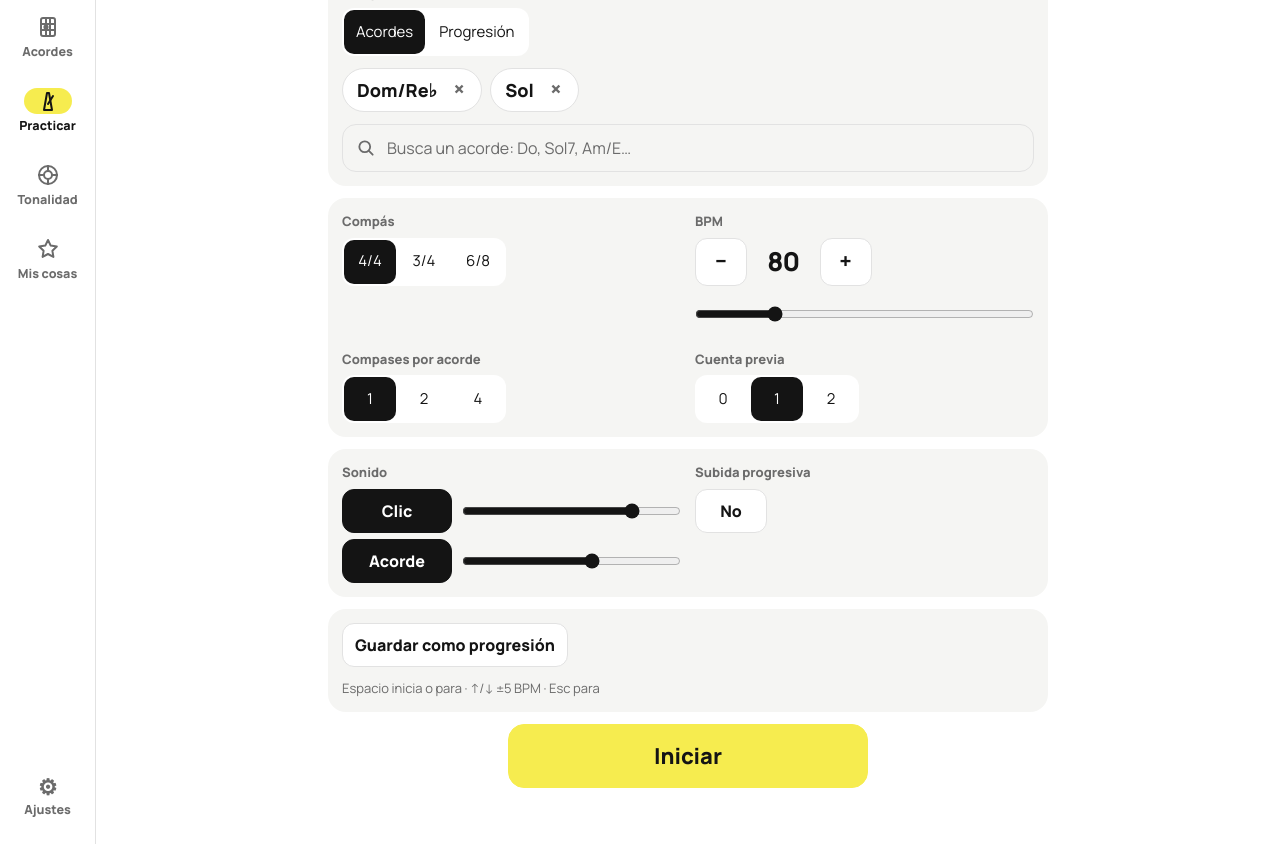
pantalla Practicar › en marcha, el acorde sin posición muestra el aviso y no rompe
(page scrolled)
What coordinates should you click on to do the following:
click the button "Iniciar"
I would click on:
 (688, 756)
Its box is [508,724,868,788].
(page scrolled)
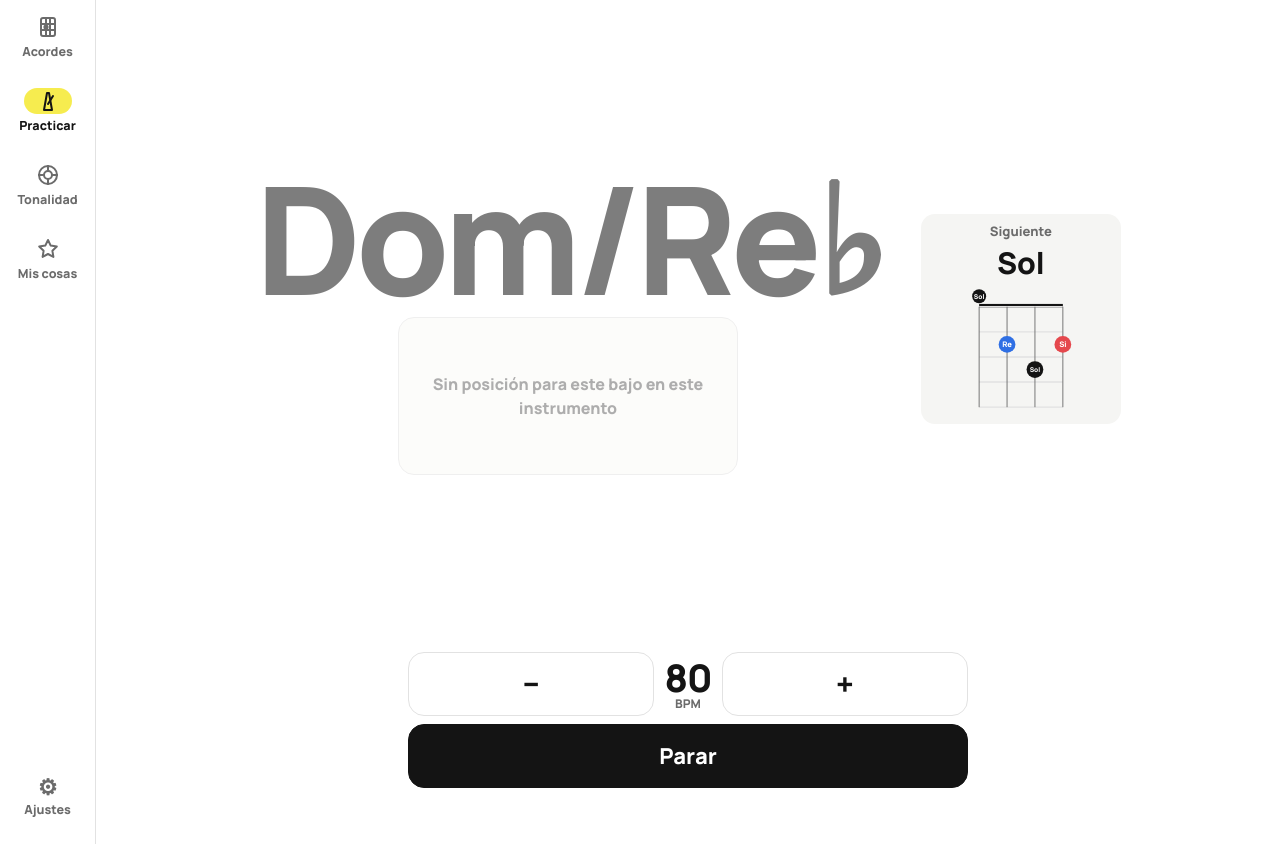
Now the button "Parar" is shown, box [408,724,968,788]
Now the text "Sin posición para este bajo en este instrumento" is shown, box [433,373,703,419]
